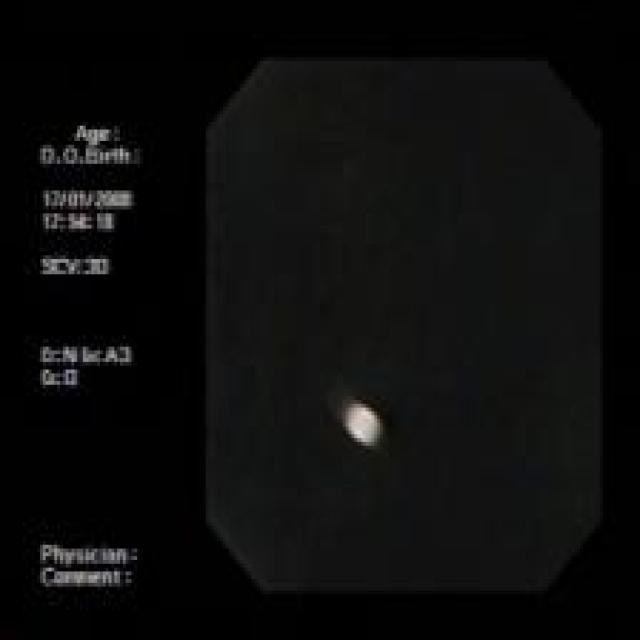color misalignment: (206, 60, 604, 593), (40, 122, 142, 591)
